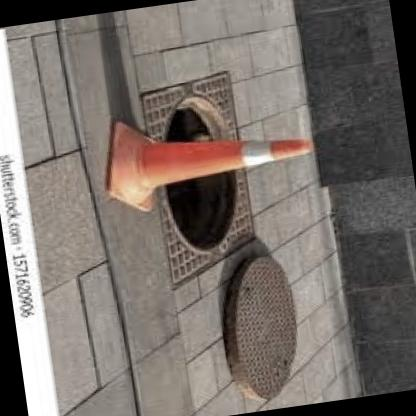manholes: (105, 61, 336, 416)
